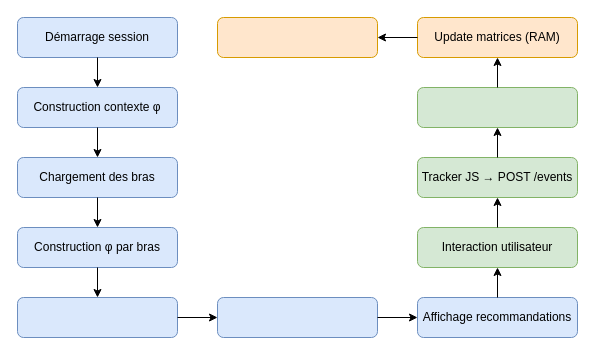
Image size: 595x355. Some labels were removed from this diagram. Here are the shapes that lost their labels. From the top down, the centre of each, then its label:
At pixel 297 37: "Persist to DB (2min)".
At pixel 497 107: "compute_reward()".
At pixel 97 317: "Scoring LinUCB".
At pixel 297 317: "Pipeline de classement".
